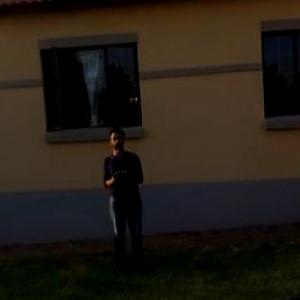follow: (101, 122, 150, 280)
